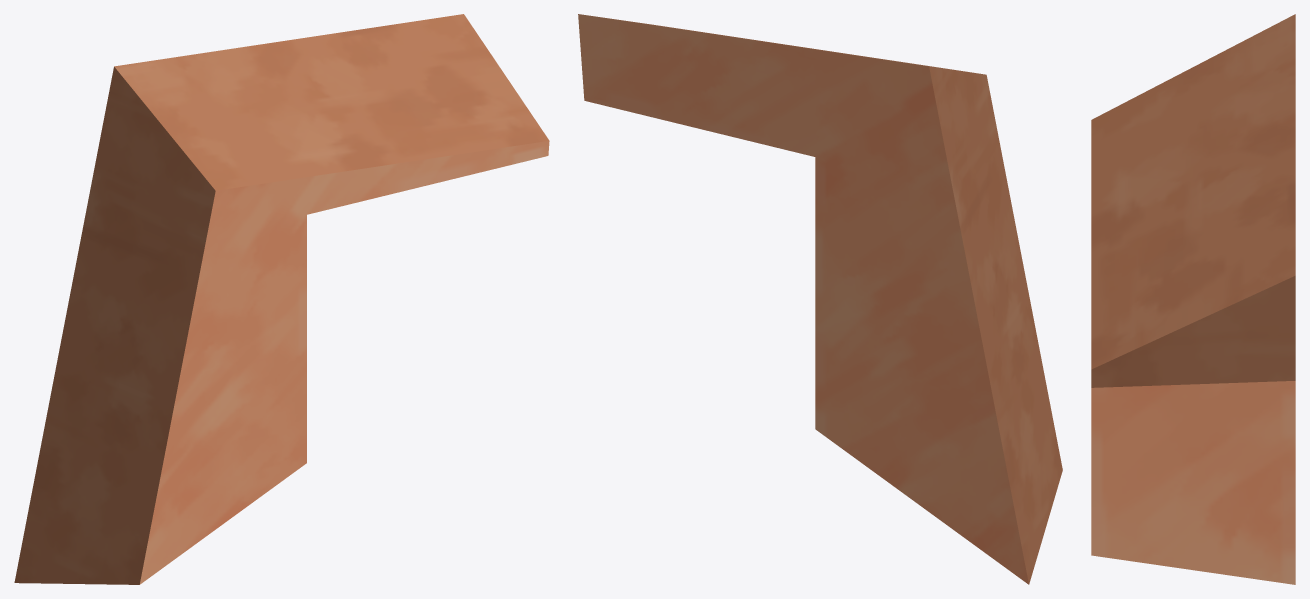
File: wall_window_s11.fbx
The picture shows the model from 3 angles, left to right: view 1: azimuth 30°, elevation 25°; view 2: azimuth 150°, elevation 25°; view 3: azimuth 270°, elevation 25°; orthographic projection. The views are drawn at different scales.
Visible parts, largest first — view 1: wall_window_s11; view 2: wall_window_s11; view 3: wall_window_s11.
Part boxes in pixels (left/top/right/bottom): wall_window_s11: left=14, top=14, right=549, bottom=584; wall_window_s11: left=578, top=14, right=1062, bottom=584; wall_window_s11: left=1091, top=14, right=1295, bottom=584.
Bounding box in the file's own units: 3.31 × 3.42 × 1.
